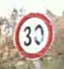limite 30: (13, 11, 54, 60)
